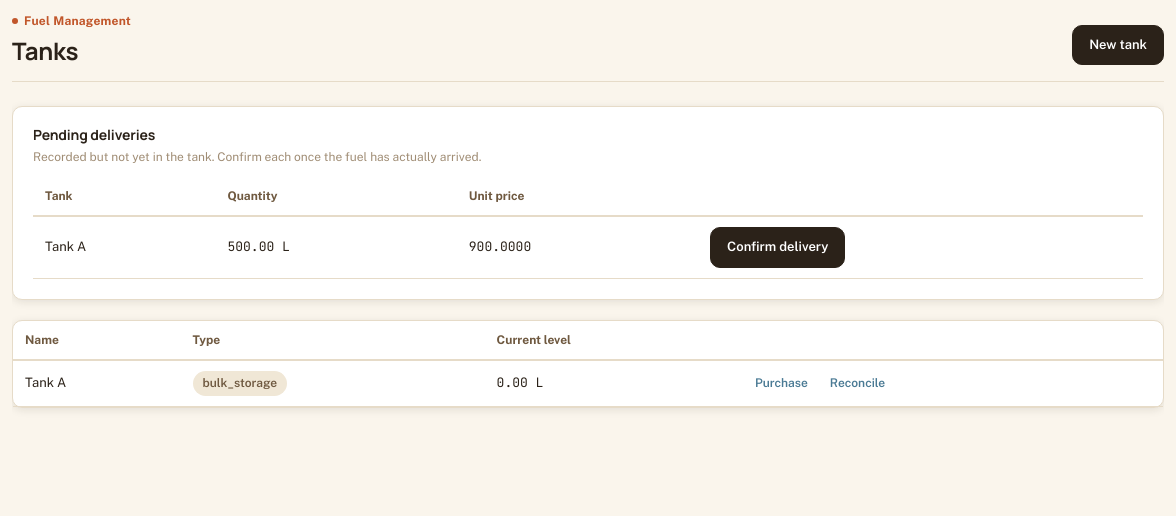
it: TanksPage purchases › shows the error instead of failing silently
Click the button "Confirm delivery". click: x=778, y=247
box: [710,227,845,268]
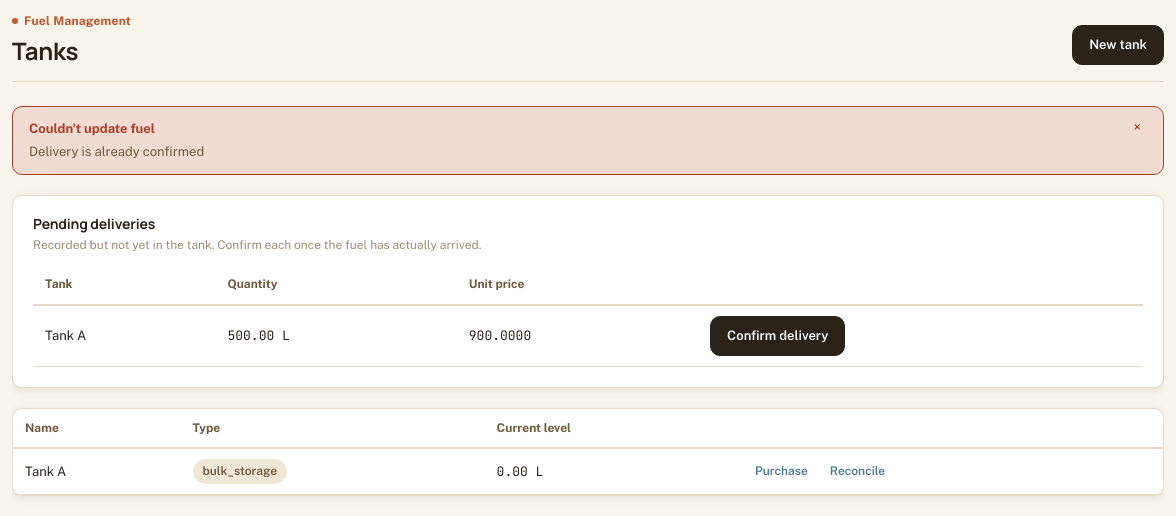
Expected: the text "Delivery is already confirmed" is shown, [29,142,204,162]
